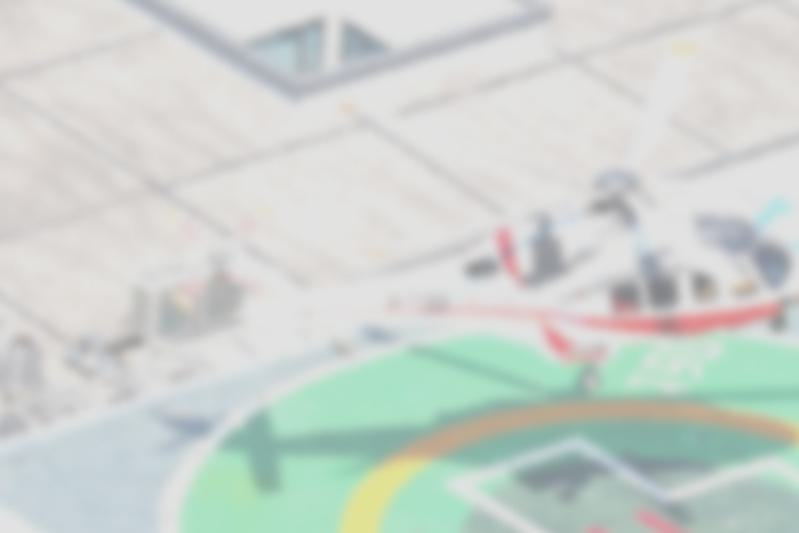Apron: (337, 399, 798, 533)
